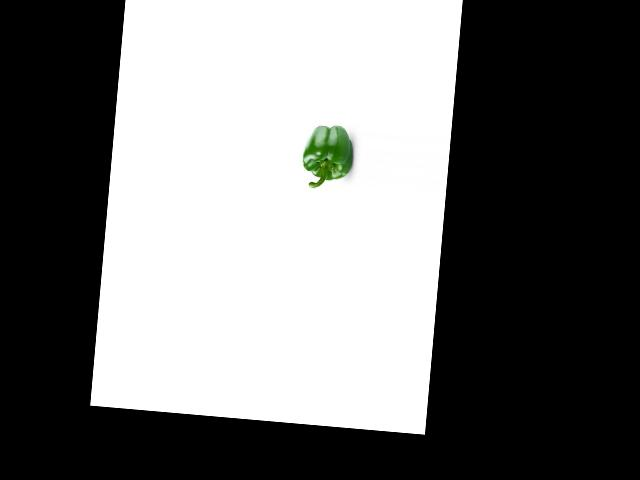bell_pepper: (299, 121, 354, 192)
